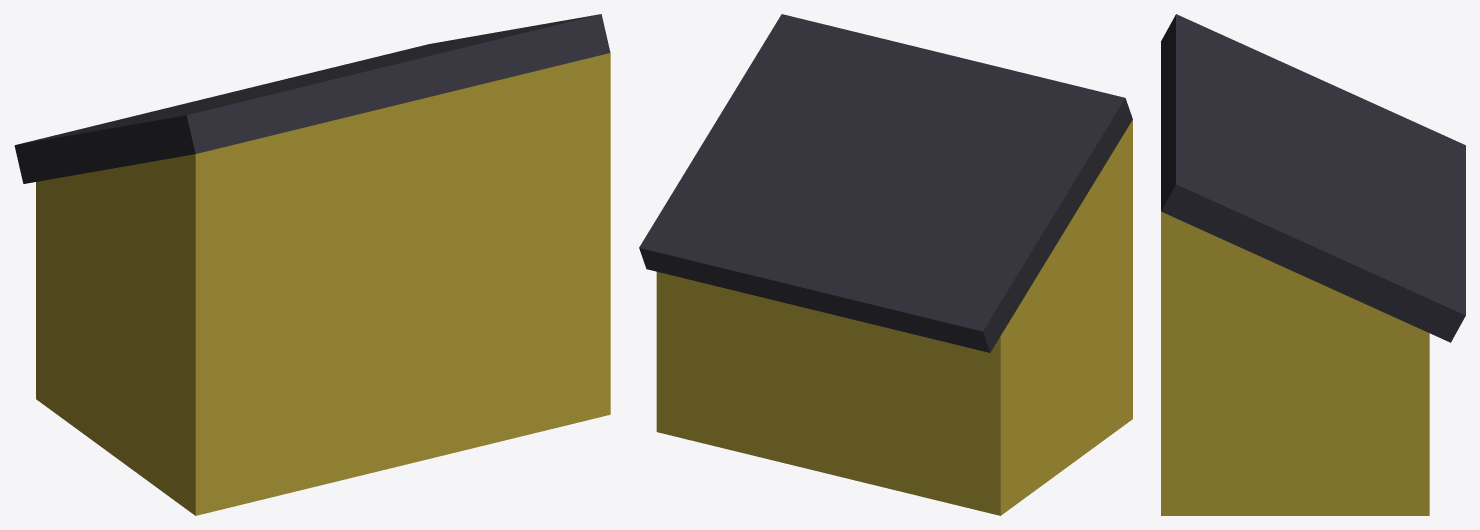
The model's file is skip.glb.
The picture shows the model from 3 angles, left to right: view 1: azimuth 30°, elevation 25°; view 2: azimuth 150°, elevation 25°; view 3: azimuth 270°, elevation 25°; orthographic projection. The views are drawn at different scales.
Parts seen in each view (by area): view 1: skip; view 2: skip; view 3: skip.
Part boxes in pixels (x1=…): skip: x1=14, y1=14, x2=610, y2=515; skip: x1=639, y1=14, x2=1132, y2=515; skip: x1=1161, y1=14, x2=1465, y2=515.
Bounding box in the file's own units: 0.6 × 0.5447 × 0.4537.
